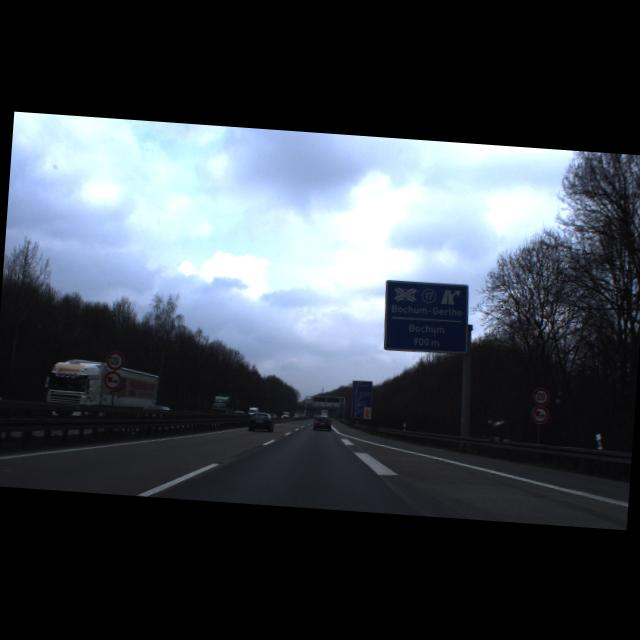prohibitory: (102, 370, 122, 390), (105, 350, 124, 370), (530, 405, 550, 424), (532, 386, 551, 405)
